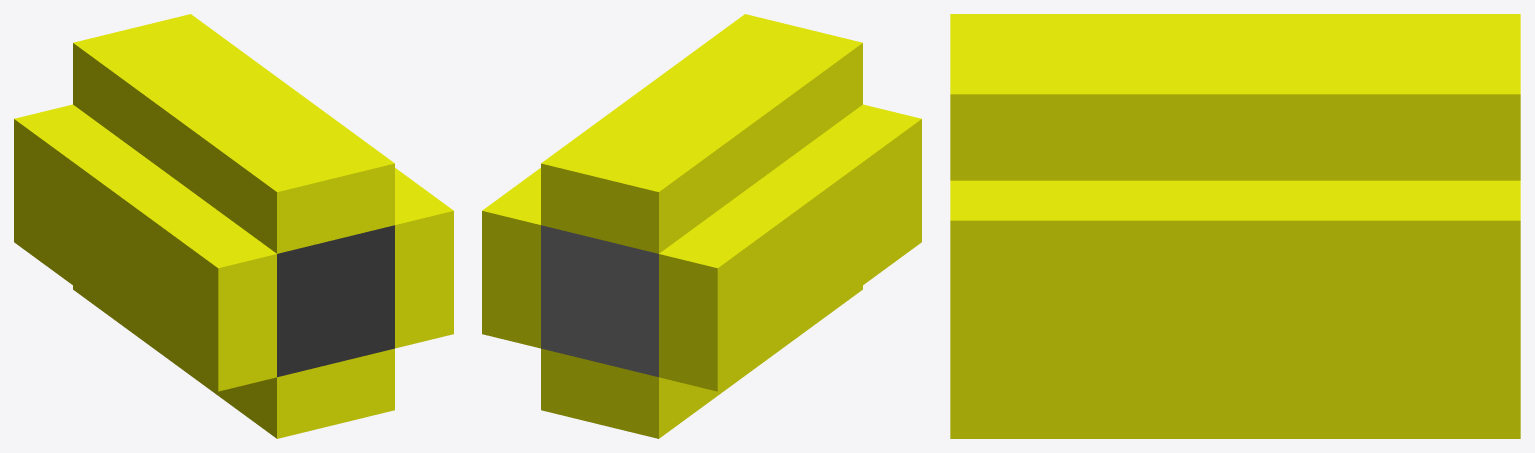
Rendered from Shell_Pistol.obj.
3 views of the same model, side by side, from view 1: azimuth 30°, elevation 25°; view 2: azimuth 150°, elevation 25°; view 3: azimuth 270°, elevation 25° (orthographic). The views are drawn at different scales.
Bounding box in the file's own units: 4 × 4 × 6.
